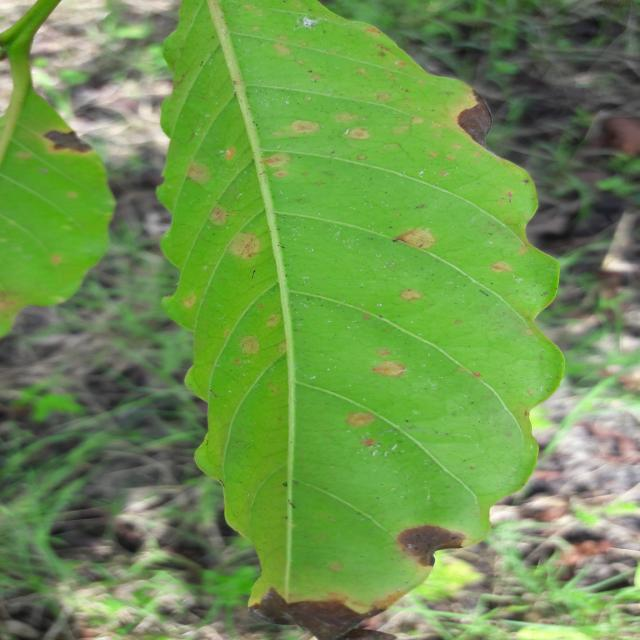Enfermedad-Roya: (154, 0, 566, 612)
